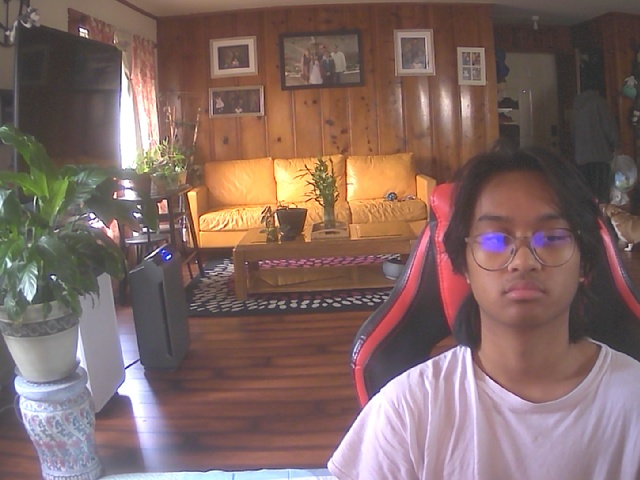neutral: (460, 157, 595, 331)
